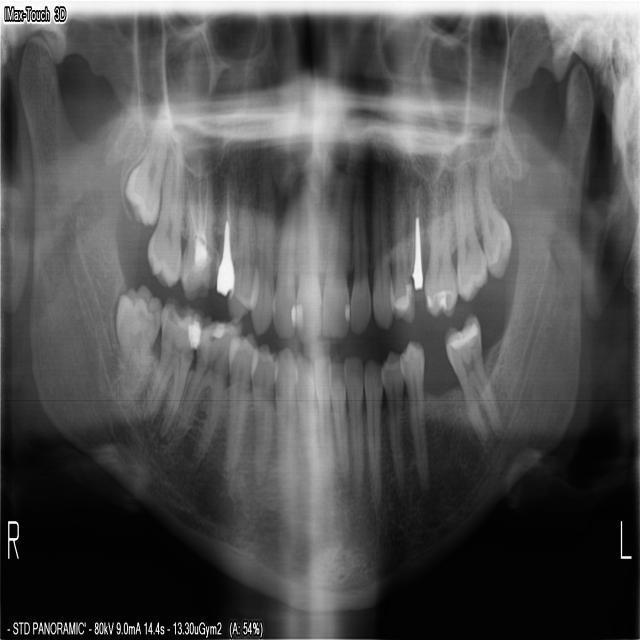LCD: (363, 355, 382, 506)
LCU: (370, 176, 394, 331)
LID: (342, 354, 364, 489), (331, 360, 350, 477)
LIU: (321, 169, 354, 340), (348, 174, 372, 338)
LMD: (441, 308, 499, 444)
LMU: (473, 147, 512, 280), (423, 173, 458, 321), (452, 157, 487, 305)
LPMD: (397, 336, 430, 492), (382, 344, 404, 492)
LPMU: (390, 186, 415, 325), (408, 182, 427, 299)
RCD: (271, 341, 295, 488)
RCU: (247, 173, 274, 336)
RID: (291, 352, 319, 478), (311, 352, 336, 473)
RIU: (294, 180, 322, 344), (269, 194, 295, 340)
RMD: (170, 313, 238, 468), (139, 292, 203, 440), (112, 279, 161, 400)
RMU: (144, 139, 183, 291), (120, 116, 168, 228), (177, 162, 214, 299)
RPMD: (222, 328, 253, 473), (248, 339, 273, 489)
RPMU: (226, 173, 255, 325), (213, 168, 236, 298)
